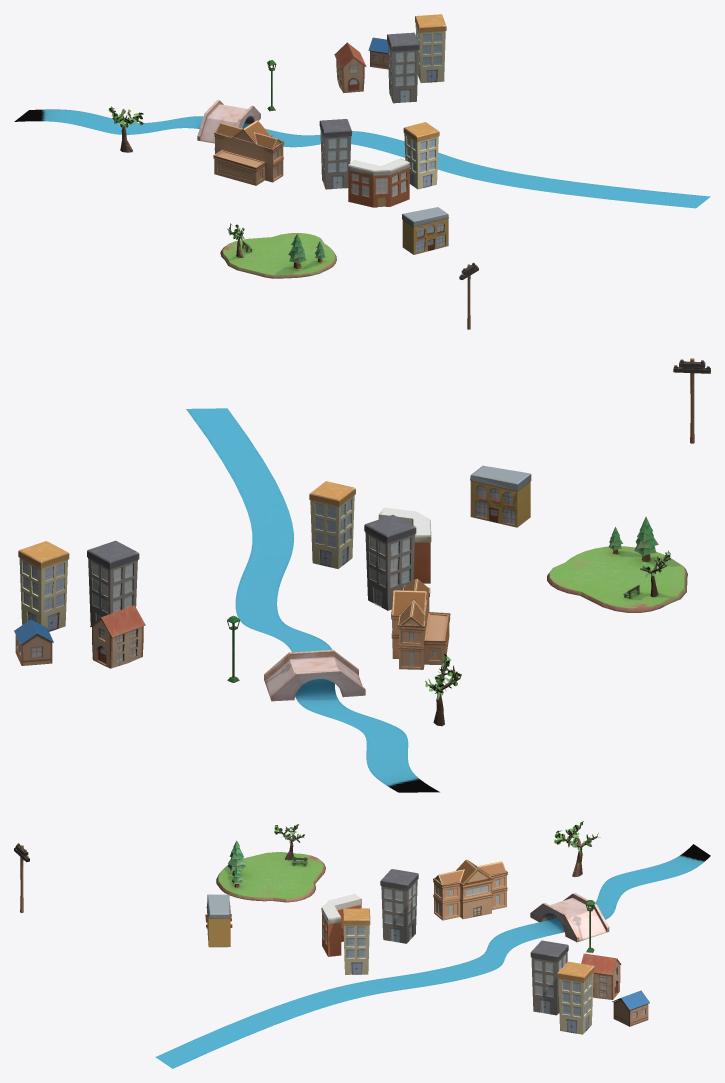
Rendered from riverside_noalpha.glb.
3 views of the same model, one above another, from view 1: azimuth 30°, elevation 25°; view 2: azimuth 150°, elevation 25°; view 3: azimuth 270°, elevation 25° (orthographic). The views are drawn at different scales.
Visible parts, largest first — view 1: RIVERSIDE.001; view 2: RIVERSIDE.001; view 3: RIVERSIDE.001.
Part boxes in pixels (x1=…): RIVERSIDE.001: x1=14, y1=14, x2=710, y2=329; RIVERSIDE.001: x1=14, y1=358, x2=710, y2=792; RIVERSIDE.001: x1=14, y1=821, x2=710, y2=1068.
Size of the model in its own units: 35.6 by 4.97 by 46.51.
Materials: 1 (1 with a texture image).
